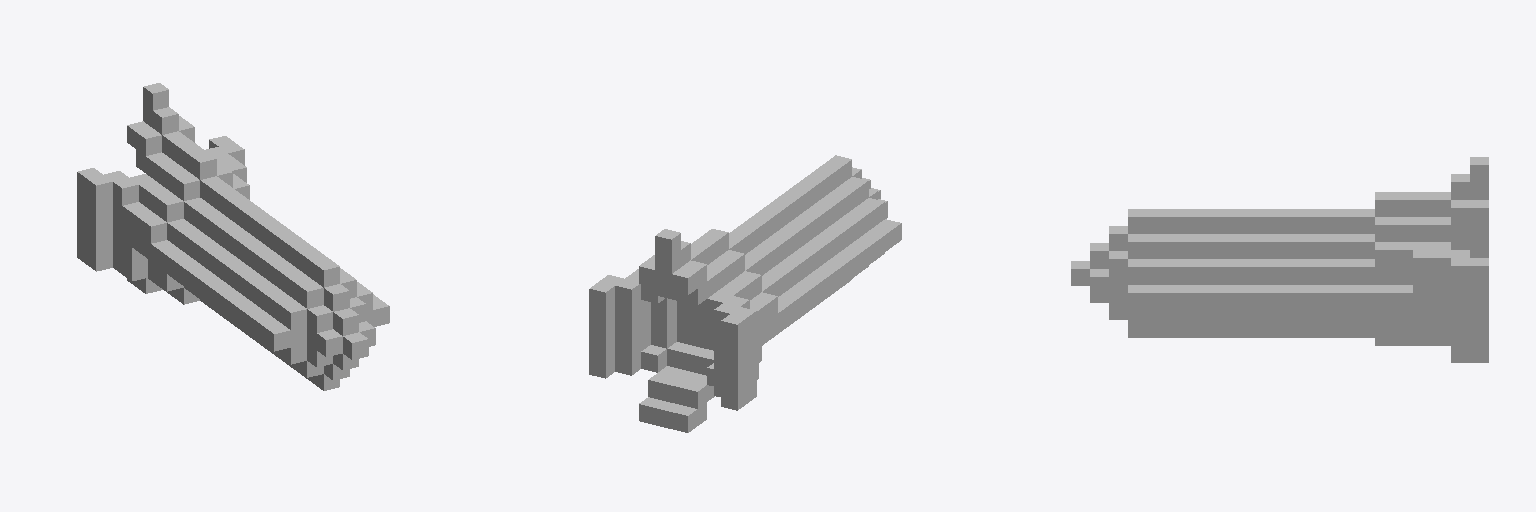
The model's file is Rocket.obj.
3 renders of one model, left to right at view 1: azimuth 30°, elevation 25°; view 2: azimuth 150°, elevation 25°; view 3: azimuth 270°, elevation 25°, orthographic.
Bounding box in the file's own units: 9 × 11 × 22.